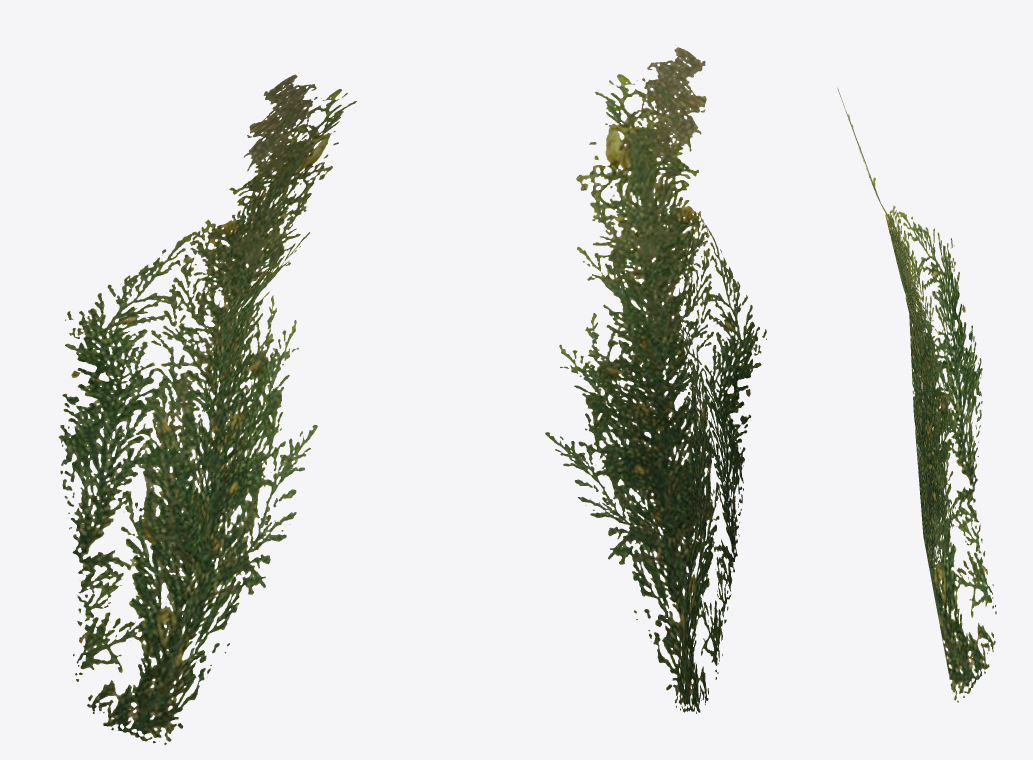
3 views of the same model, side by side, from view 1: azimuth 30°, elevation 25°; view 2: azimuth 150°, elevation 25°; view 3: azimuth 270°, elevation 25° (orthographic). The views are drawn at different scales.
Parts seen in each view (by area): view 1: Cystoseira.006; view 2: Cystoseira.006; view 3: Cystoseira.006.
Boxes of the visible parts, left/top/right/bottom form: Cystoseira.006: left=58, top=74, right=356, bottom=744; Cystoseira.006: left=545, top=45, right=766, bottom=713; Cystoseira.006: left=837, top=87, right=996, bottom=702.
Bounding box in the file's own units: 0.5052 × 0.8979 × 0.2391.
Materials: 1 (1 with a texture image).
